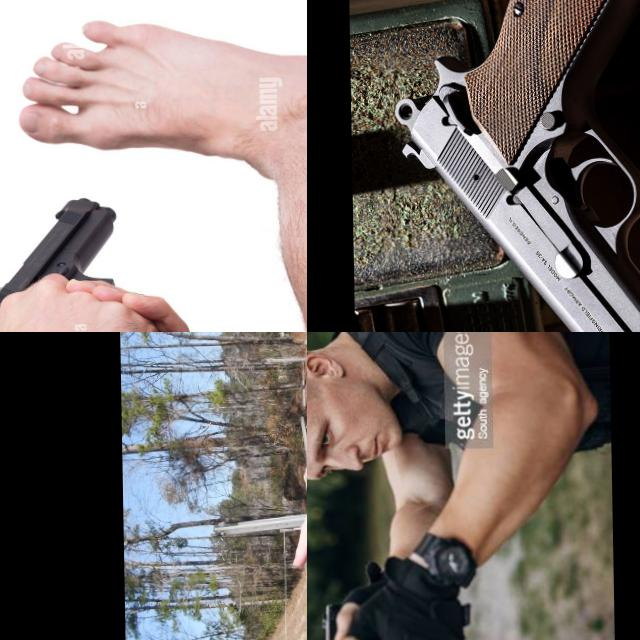handgun: (385, 0, 640, 332), (0, 188, 123, 332), (312, 598, 394, 640)
